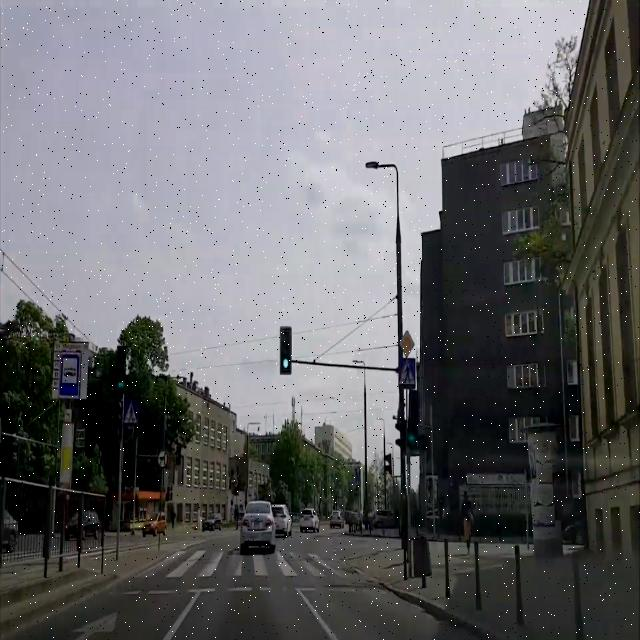Droga z pierwszenstwem: (399, 329, 415, 356)
Przejscie dla pieszych: (398, 357, 416, 389), (123, 399, 138, 428)
